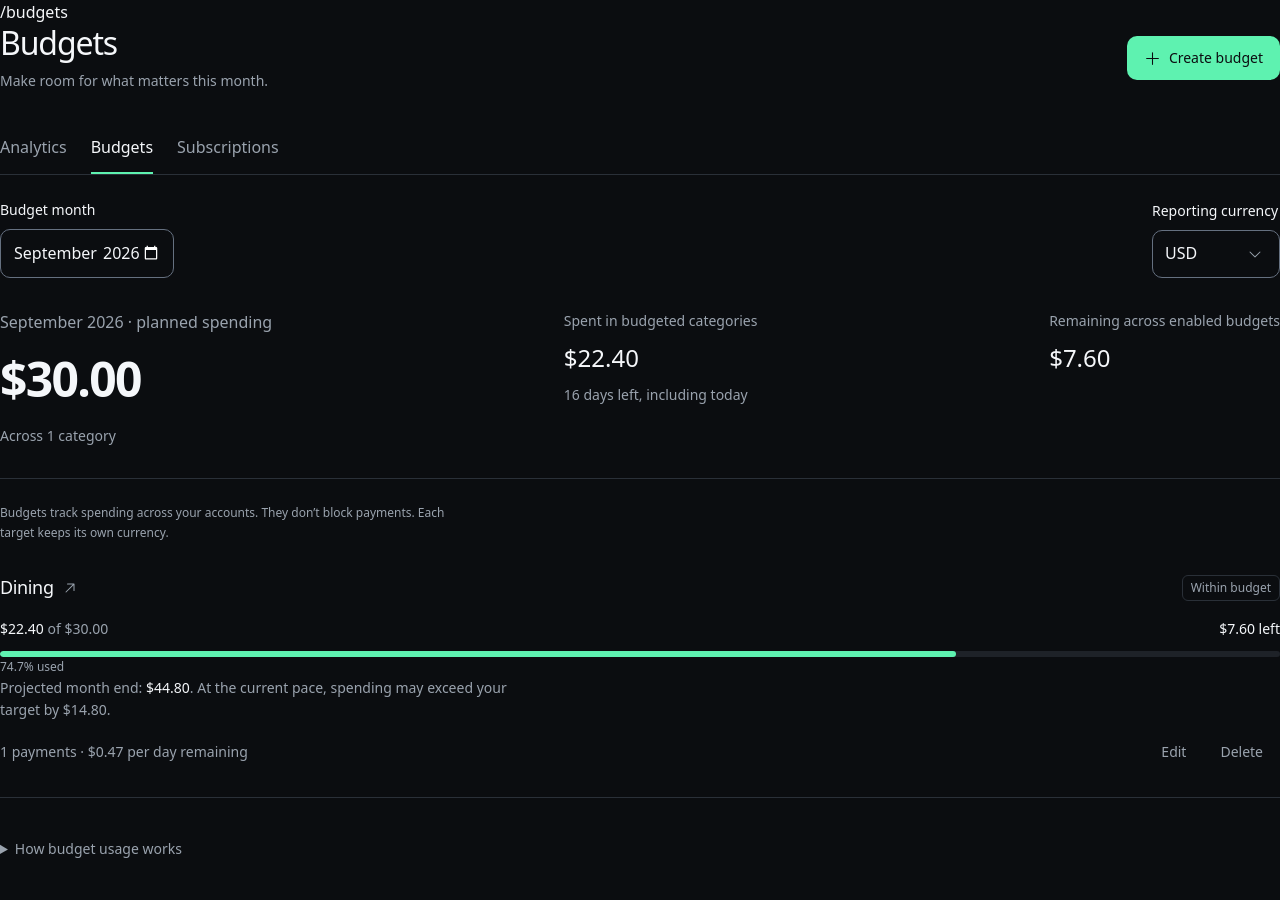
uncertain budget creation freezes its fields and retries the unchanged key
The width and height of the screenshot is (1280, 900).
Click the button "Create budget" at (1203, 58), box [1127,36,1279,80]
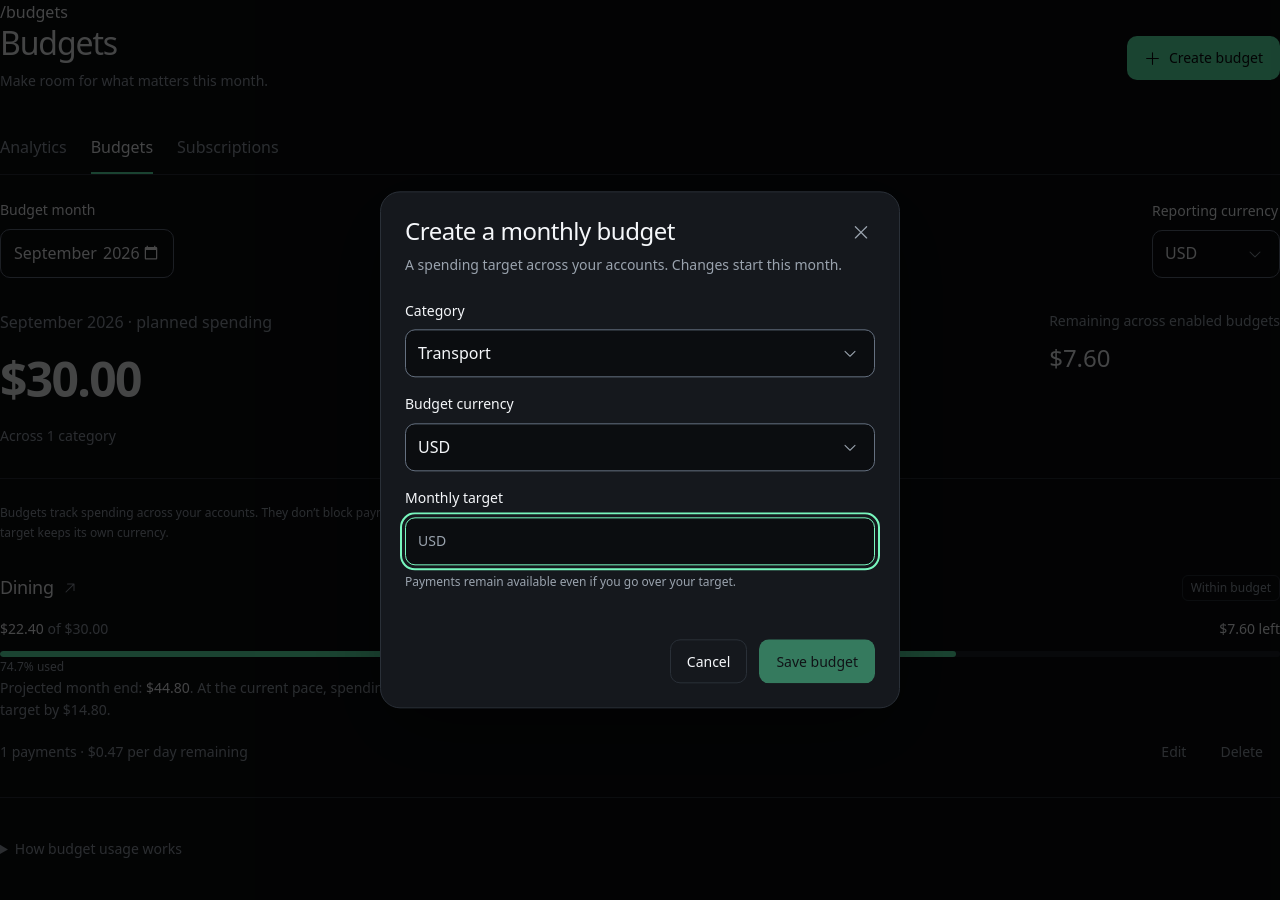
Type "50" into the field named "Monthly target (USD)" at (660, 541), box [446,518,874,564]
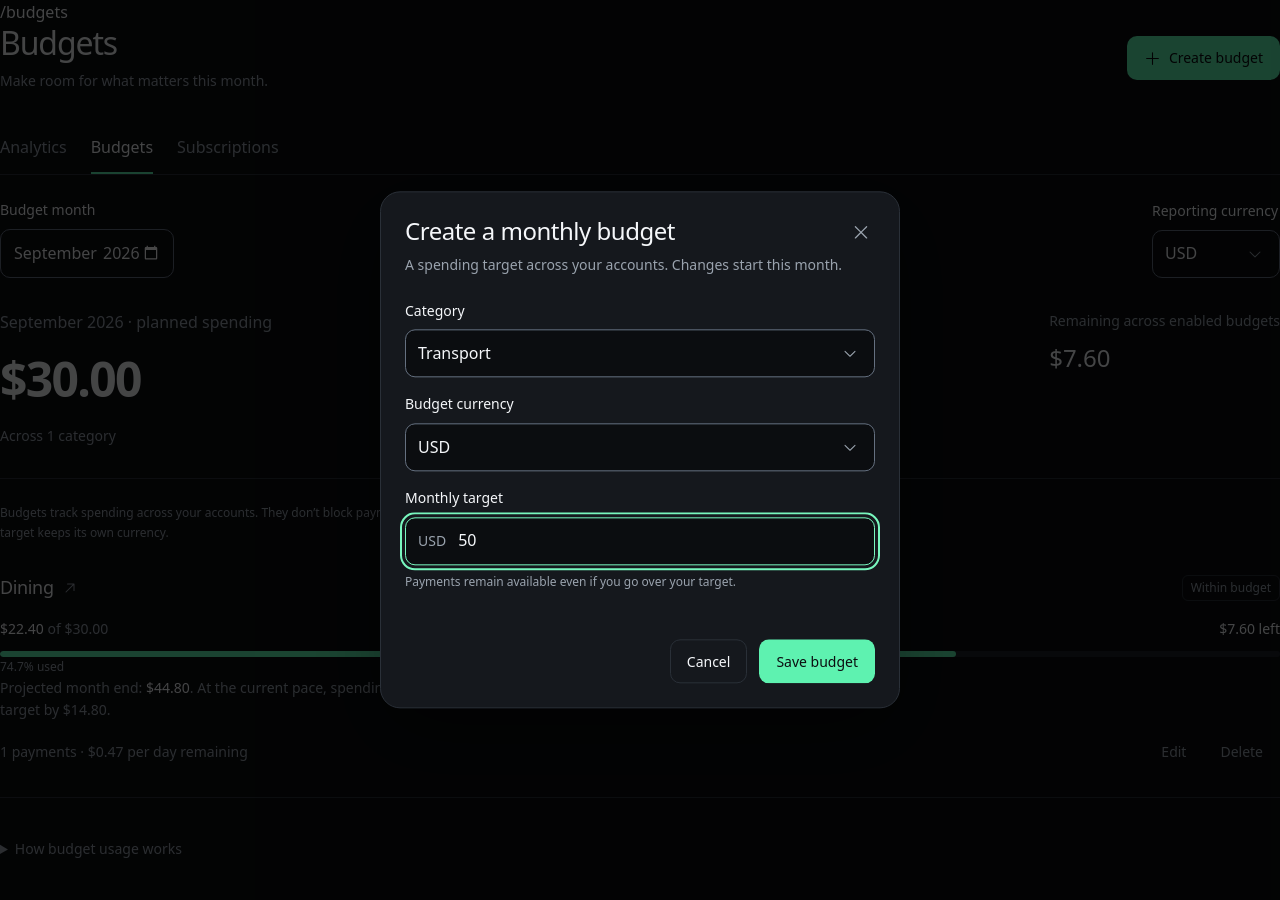
Click the button "Save budget" at (817, 662), box [759,640,875,684]
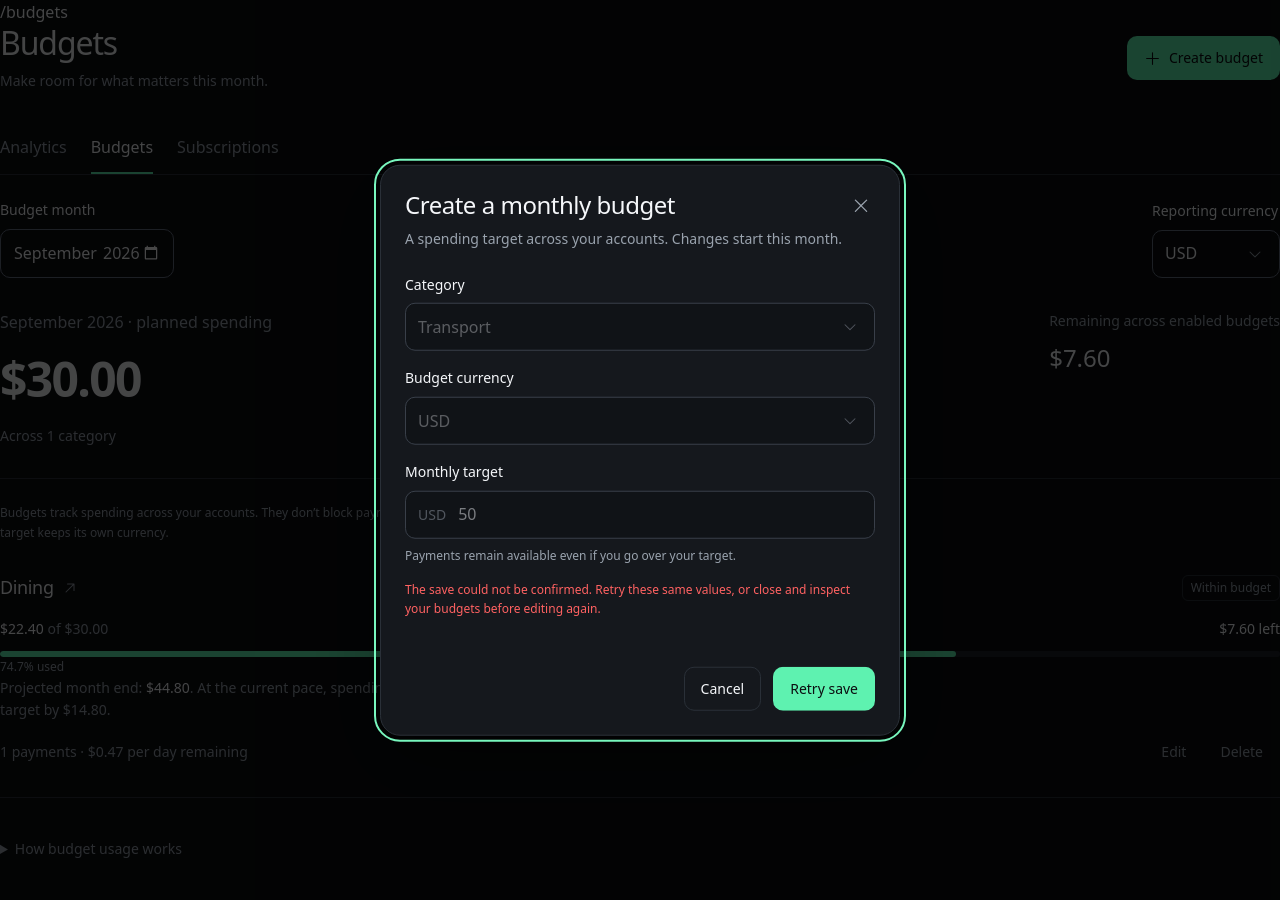
Expected: the message is shown, [405,581,875,618]
Expected: the dropdown labelled "Category" is disabled, [406,304,874,350]
Click the button "Retry save" at (824, 688), box [773,666,875,710]
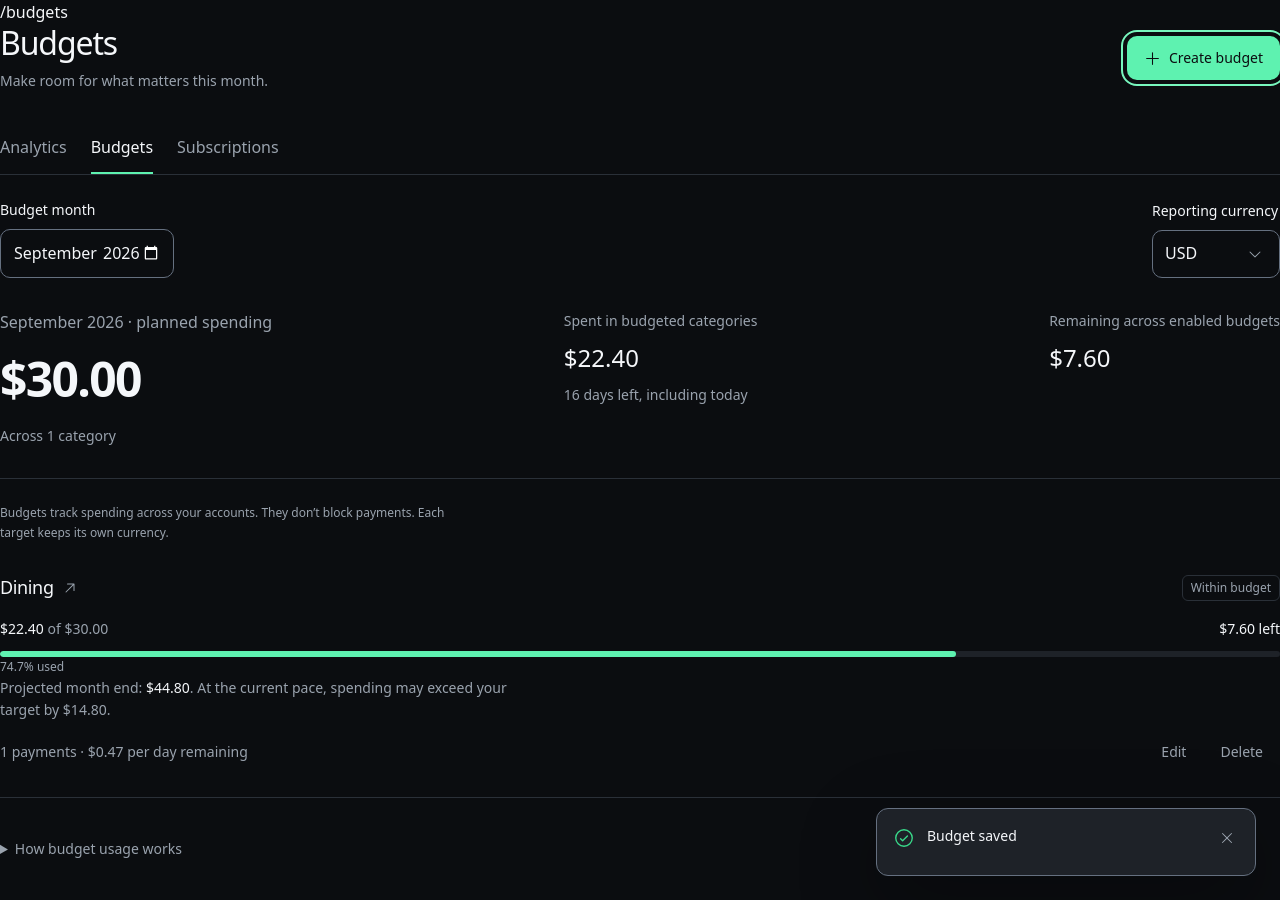
Expected: the dialog is gone
